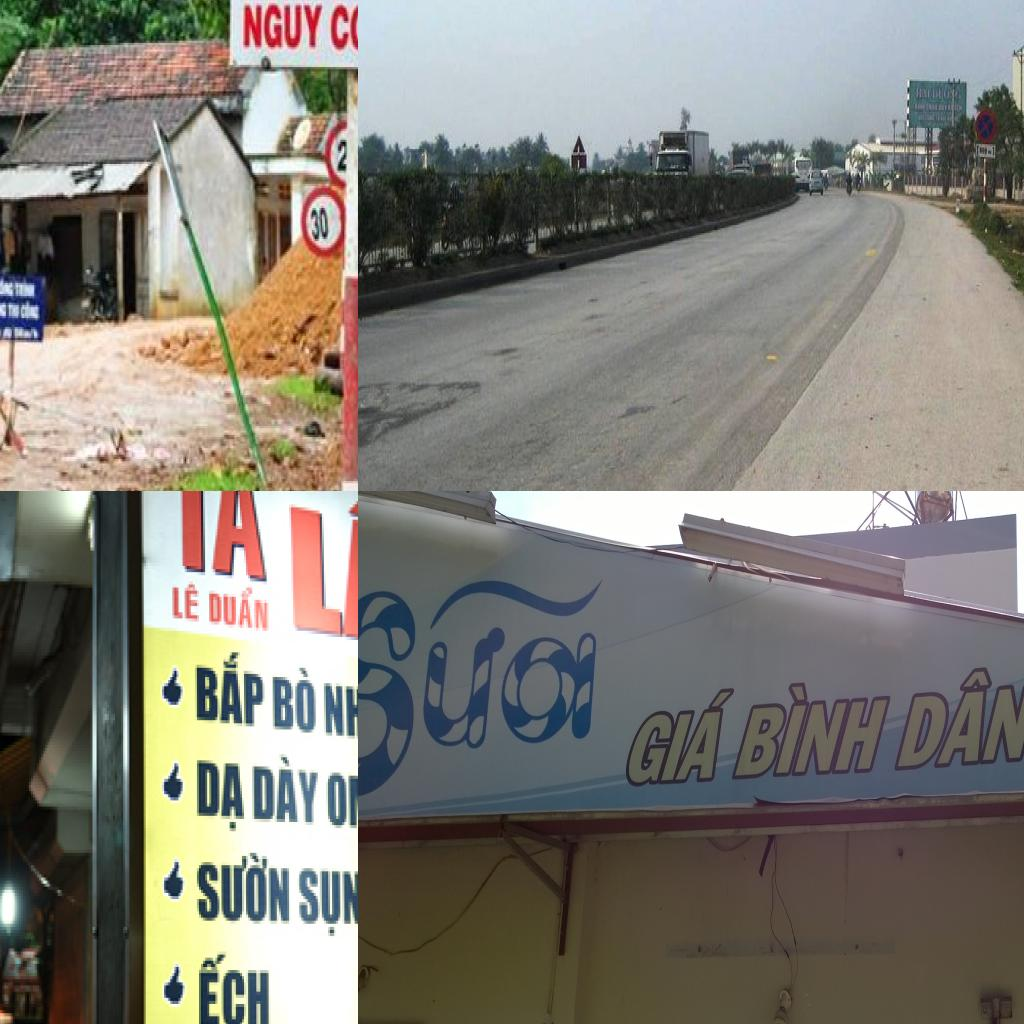text: (358, 542, 614, 801), (728, 676, 896, 785), (618, 672, 740, 790), (278, 491, 358, 670), (187, 841, 295, 936), (184, 942, 281, 1024), (190, 643, 266, 733), (248, 742, 320, 822), (293, 855, 358, 942), (189, 745, 248, 840), (209, 491, 270, 581), (238, 0, 326, 53), (158, 491, 211, 578), (207, 578, 277, 643), (266, 658, 320, 732), (319, 661, 358, 751), (321, 766, 358, 828), (168, 572, 203, 625), (327, 0, 358, 54), (304, 197, 334, 248), (334, 133, 350, 175), (15, 278, 35, 300), (21, 300, 41, 322), (0, 276, 14, 298), (6, 302, 21, 322), (0, 300, 7, 320)
